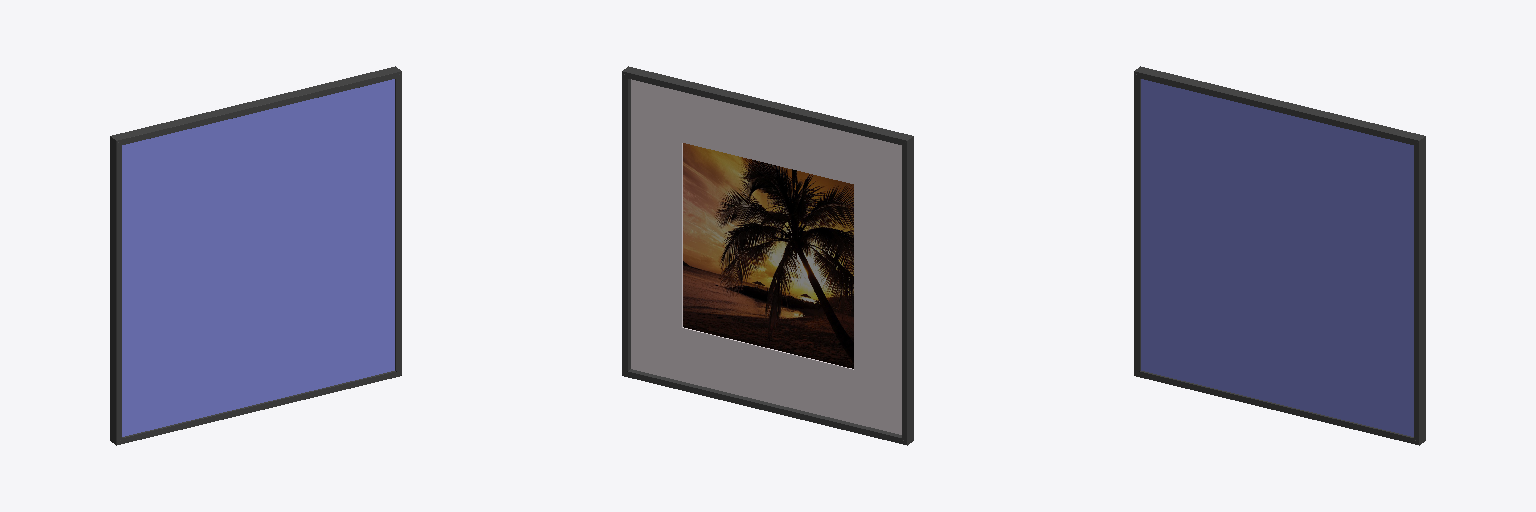
3 renders of one model, left to right at view 1: azimuth 30°, elevation 25°; view 2: azimuth 150°, elevation 25°; view 3: azimuth 330°, elevation 25°, orthographic.
Visible parts, largest first — view 1: pic3; view 2: pic3; view 3: pic3.
Boxes of the visible parts, x1,y1,x2,y2 form: pic3: [110, 66, 401, 445]; pic3: [622, 66, 913, 445]; pic3: [1134, 66, 1425, 445].
Bounding box in the file's own units: 5000 × 5100 × 200.
Materials: 4 (1 with a texture image).